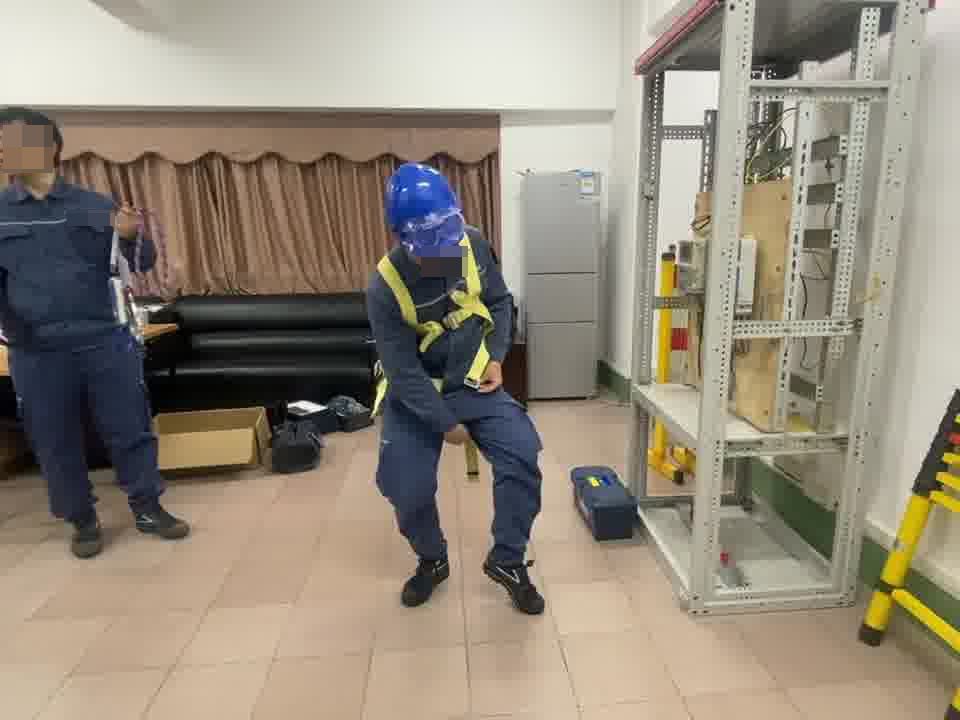downsuit: (375, 380, 547, 560), (9, 346, 163, 532)
halt: (385, 163, 469, 272)
hand: (113, 202, 147, 243), (474, 361, 508, 392), (440, 421, 472, 451)
person: (364, 141, 553, 617), (1, 109, 193, 564), (110, 181, 178, 526)
safebelt: (371, 232, 497, 421)
unhalt: (1, 102, 63, 181)
upsuit: (1, 186, 155, 343), (367, 224, 518, 380)
